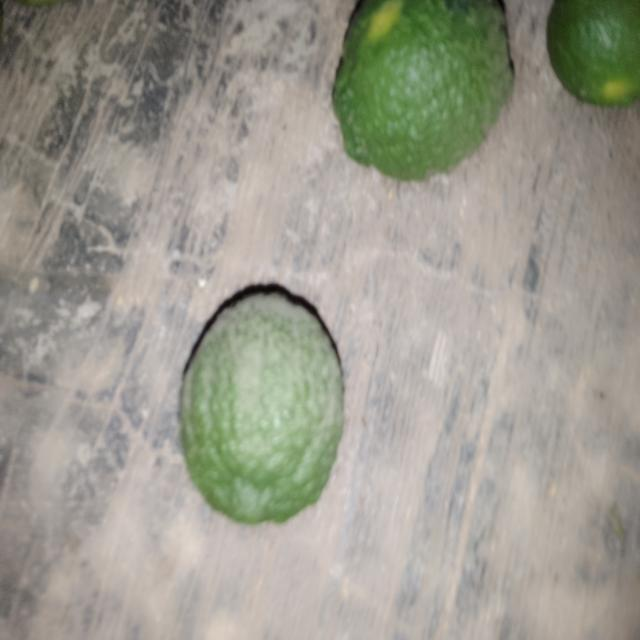Unripe: (177, 271, 351, 531), (321, 0, 534, 191), (541, 0, 640, 111)
